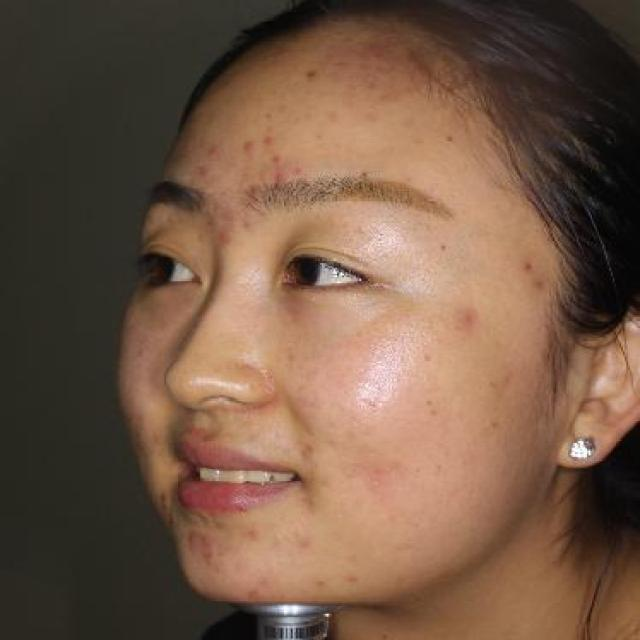blackheads: (300, 60, 325, 85), (440, 129, 465, 148)
papules: (270, 168, 290, 183), (240, 137, 256, 155), (262, 134, 279, 148)
pustules: (234, 503, 255, 515)
whiteheads: (308, 292, 318, 302), (277, 296, 289, 304)
